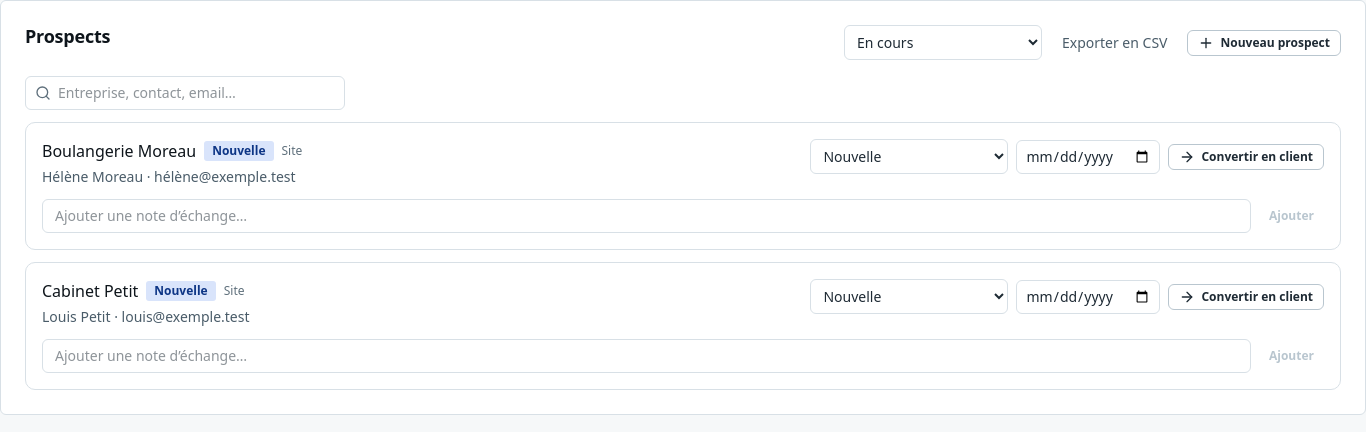
Test case: ProspectsPanel — chercher un prospect › ne présente pas une recherche vide comme un filtre vide
The width and height of the screenshot is (1366, 432).
Step 1. Type "zzz" into the search field named "Rechercher un prospect" → (185, 93), box [25,76,345,110]
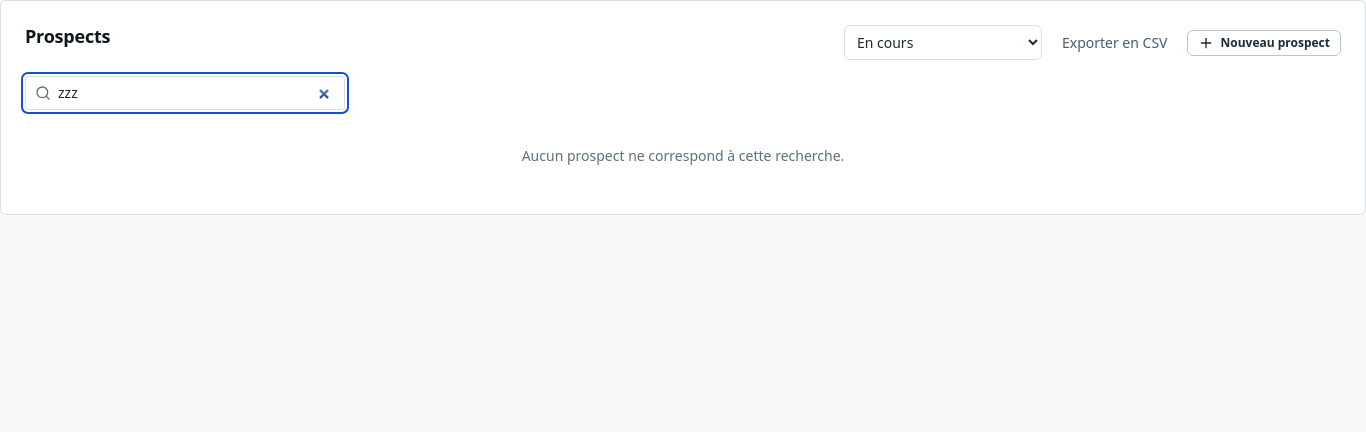
Expected: the text "Aucun prospect ne correspond à cette recherche." is shown, [522,146,844,165]
